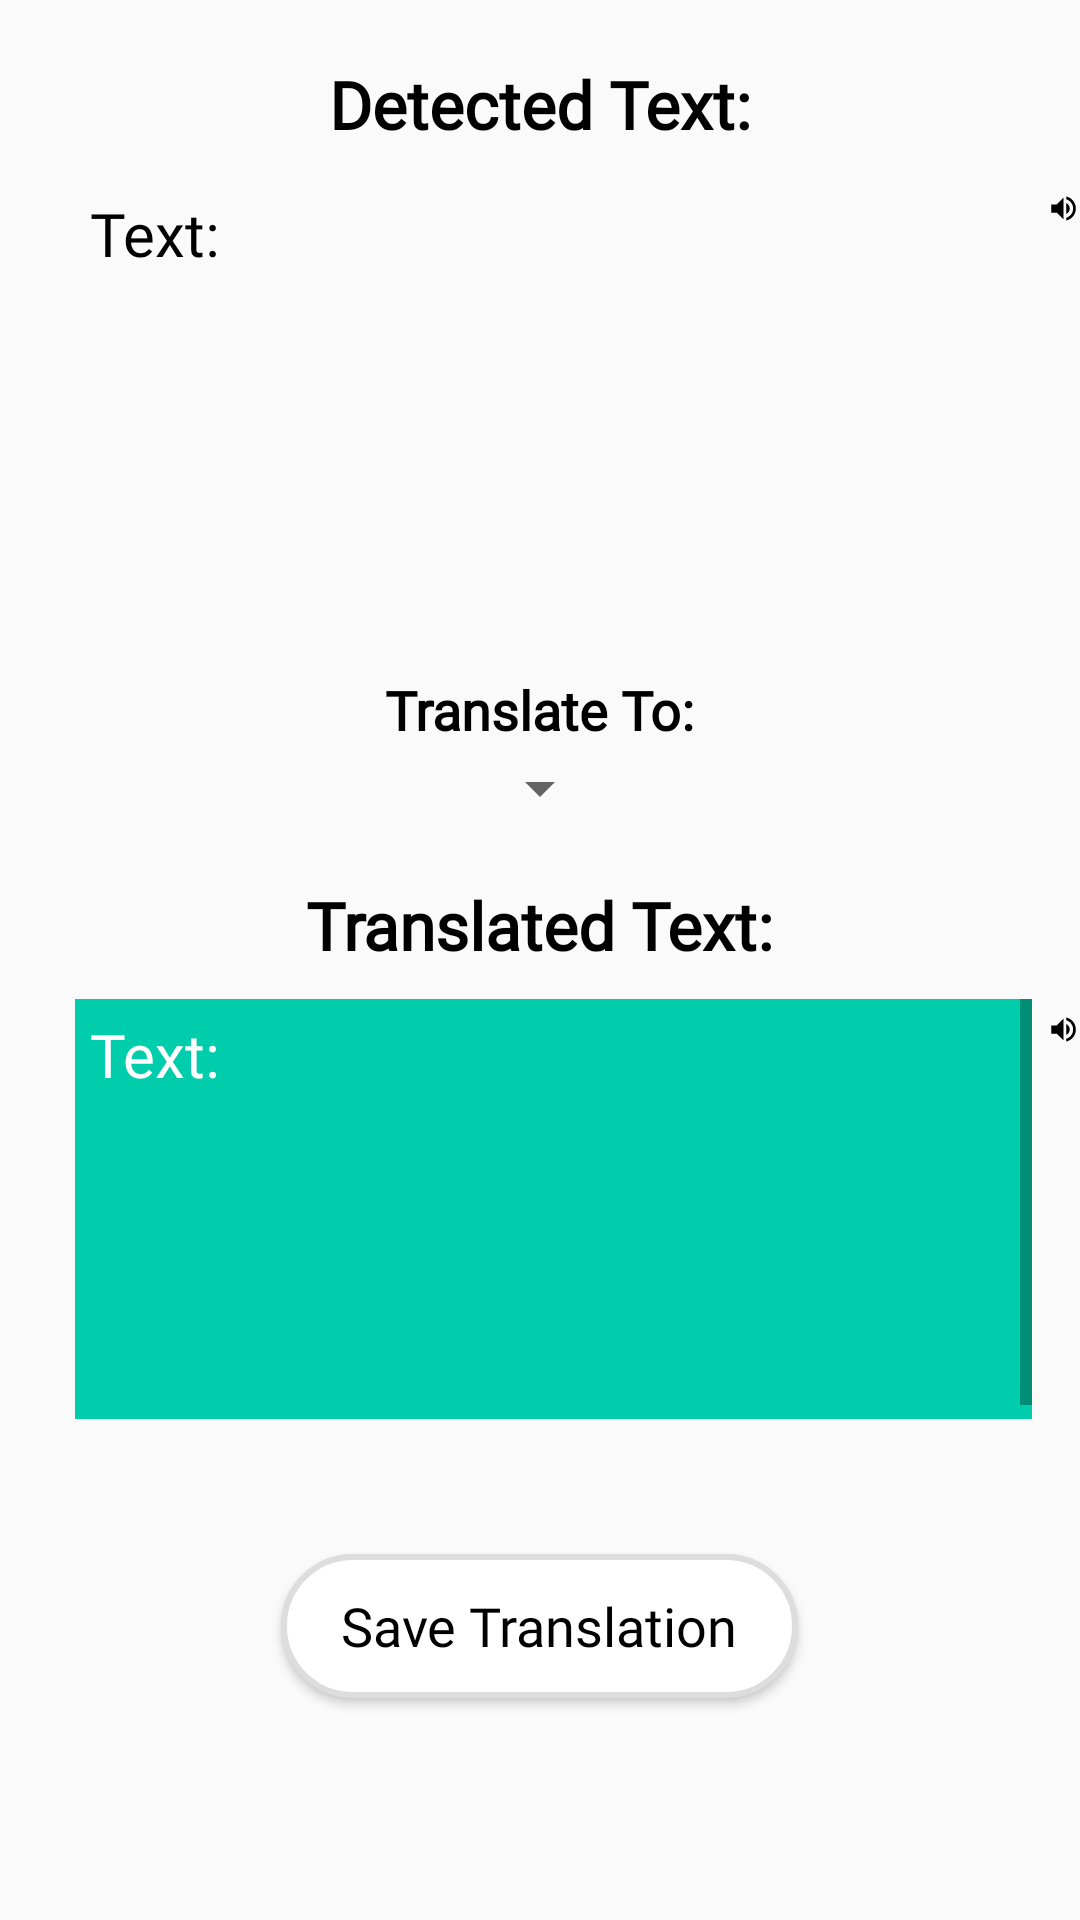

Where to tap for icons on this 1080 × 1920 app screen, as [x,y]:
volume up: [1063,208], [1063,1029]
